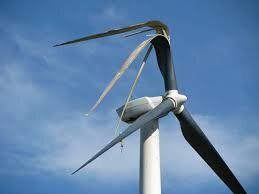faulty: (53, 17, 199, 142)
